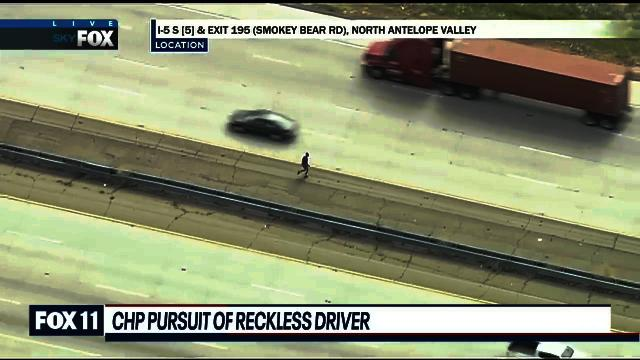berlari: (296, 152, 310, 180)
